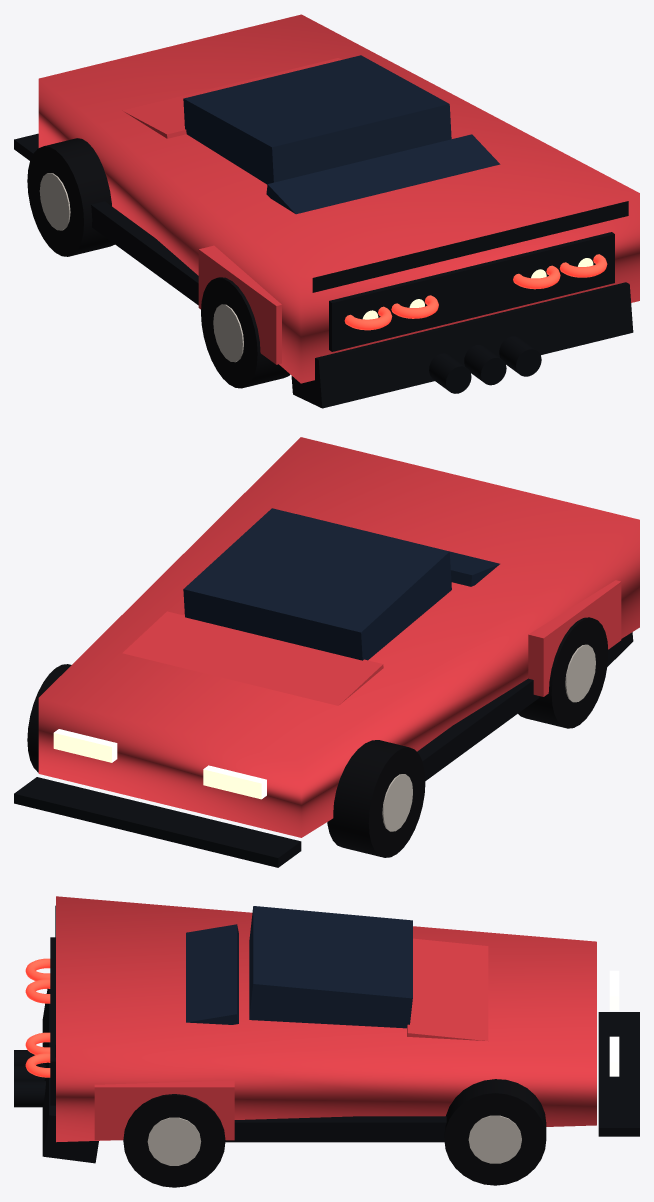
The model's file is wedge-supercar.glb.
3 renders of one model, top to bottom at view 1: azimuth 30°, elevation 25°; view 2: azimuth 150°, elevation 25°; view 3: azimuth 270°, elevation 25°, orthographic. The views are drawn at different scales.
Visible parts, largest first — view 1: low_wide_wedge_body, black_fastback_cabin, rear_diffuser, deep_rear_grille, rear_window, wheel_front_left_tire, thin_rear_spoiler, wheel_rear_left_tire, left_side_skirt, wide_rear_haunches, sloped_front_hood, wheel_rear_left_rim (+8 smaller); view 2: low_wide_wedge_body, black_fastback_cabin, sloped_front_hood, front_splitter, wheel_front_left_tire, wheel_rear_left_tire, wide_rear_haunches, left_side_skirt, headlight_0.64, headlight_-0.64, wheel_rear_left_rim, wheel_front_left_rim (+2 smaller); view 3: low_wide_wedge_body, black_fastback_cabin, sloped_front_hood, wheel_front_right_tire, wheel_rear_right_tire, right_side_skirt, rear_window, front_splitter, wide_rear_haunches, rear_diffuser, wheel_front_right_rim, wheel_rear_right_rim (+8 smaller).
Part boxes in pixels (x1=…): low_wide_wedge_body: x1=38, y1=14, x2=639, y2=383; black_fastback_cabin: x1=183, y1=55, x2=451, y2=184; rear_diffuser: x1=291, y1=282, x2=633, y2=408; deep_rear_grille: x1=329, y1=232, x2=614, y2=351; rear_window: x1=266, y1=134, x2=500, y2=214; wheel_front_left_tire: x1=27, y1=138, x2=114, y2=256; thin_rear_spoiler: x1=312, y1=201, x2=628, y2=292; wheel_rear_left_tire: x1=201, y1=277, x2=290, y2=388; left_side_skirt: x1=91, y1=201, x2=198, y2=305; wide_rear_haunches: x1=198, y1=245, x2=281, y2=364; sloped_front_hood: x1=122, y1=58, x2=341, y2=138; wheel_rear_left_rim: x1=213, y1=304, x2=243, y2=362; low_wide_wedge_body: x1=38, y1=437, x2=639, y2=837; black_fastback_cabin: x1=183, y1=508, x2=451, y2=660; sloped_front_hood: x1=122, y1=611, x2=383, y2=705; front_splitter: x1=14, y1=777, x2=301, y2=867; wheel_front_left_tire: x1=327, y1=740, x2=425, y2=857; wheel_rear_left_tire: x1=518, y1=617, x2=608, y2=728; wide_rear_haunches: x1=528, y1=580, x2=621, y2=696; left_side_skirt: x1=417, y1=678, x2=539, y2=780; headlight_0.64: x1=53, y1=729, x2=117, y2=762; headlight_-0.64: x1=203, y1=765, x2=266, y2=799; wheel_rear_left_rim: x1=565, y1=644, x2=595, y2=702; wheel_front_left_rim: x1=382, y1=774, x2=412, y2=831; low_wide_wedge_body: x1=56, y1=896, x2=596, y2=1142; black_fastback_cabin: x1=249, y1=906, x2=412, y2=1028; sloped_front_hood: x1=407, y1=938, x2=488, y2=1040; wheel_front_right_tire: x1=444, y1=1079, x2=546, y2=1185; wheel_rear_right_tire: x1=123, y1=1094, x2=225, y2=1187; right_side_skirt: x1=225, y1=1116, x2=446, y2=1142; rear_window: x1=186, y1=924, x2=238, y2=1024; front_splitter: x1=598, y1=1012, x2=639, y2=1136; wide_rear_haunches: x1=94, y1=1080, x2=234, y2=1140; rear_diffuser: x1=42, y1=988, x2=98, y2=1163; wheel_front_right_rim: x1=468, y1=1115, x2=521, y2=1163; wheel_rear_right_rim: x1=147, y1=1117, x2=201, y2=1165.
Bounding box in the file's own units: 3.02 × 1.5 × 5.15.
